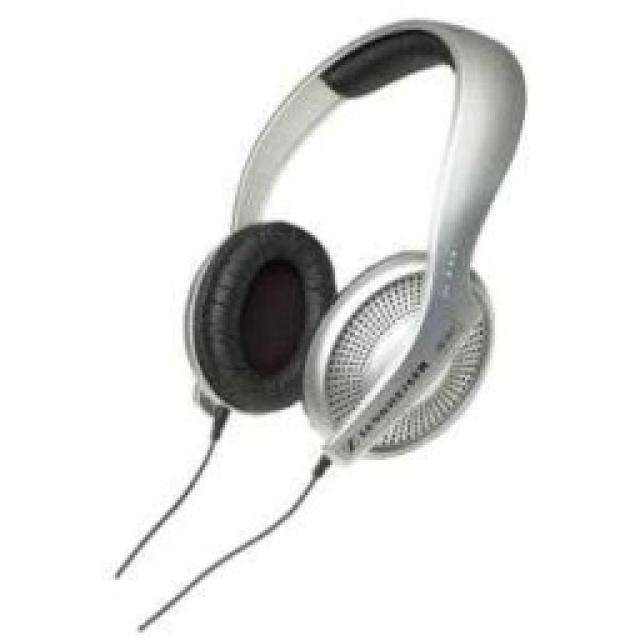headphones: (180, 15, 528, 465)
